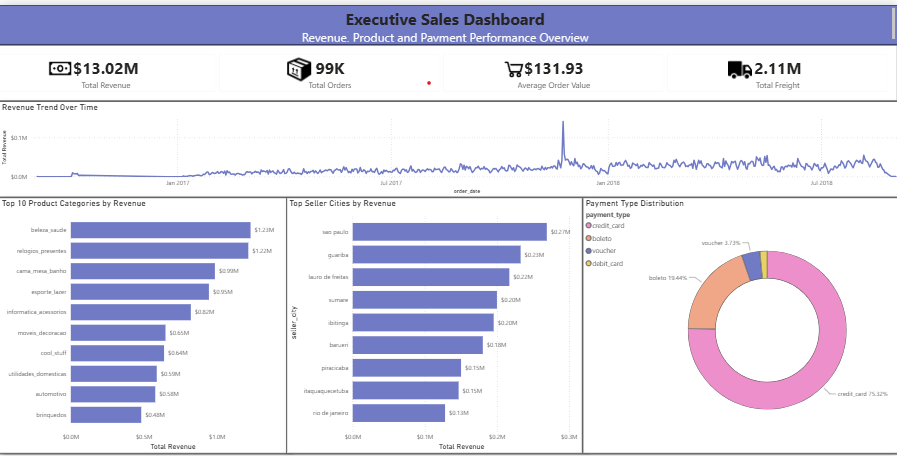

The dashboard page shown, as its layout file describes it:
{"tool":"powerbi","page":{"name":"Executive Sales Dashboard","canvas":[1800,900],"ordinal":0},"visuals":[{"type":"textbox","box":[-8,0,1808,80],"z":0},{"type":"cardVisual","fields":{"Data":["dim_customers.Total Revenue","dim_customers.Total Orders","dim_customers.Average Order Value","dim_customers.Total Freight"]},"box":[-24,80,1824,112],"z":1000},{"type":"image","box":[93,103,60,50],"z":2000},{"type":"image","box":[1005,95,50,65],"z":3000},{"type":"image","box":[570,105,60,48],"z":4000},{"type":"image","box":[1450,105,64,48],"z":5000},{"type":"lineChart","title":"Revenue Trend Over Time","fields":{"Y":["dim_customers.Total Revenue"],"Category":["dim_dates.order_date"]},"box":[0,192,1824,192],"z":6000},{"type":"clusteredBarChart","title":"Top 10 Product Categories by Revenue","fields":{"Category":["dim_products.product_category_name"],"Y":["dim_customers.Total Revenue"]},"box":[0,384,576,512],"z":7000},{"type":"clusteredBarChart","title":"Top Seller Cities by Revenue","fields":{"Category":["dim_sellers.seller_city"],"Y":["dim_customers.Total Revenue"]},"box":[576,384,592,512],"z":8000},{"type":"donutChart","title":"Payment Type Distribution","fields":{"Category":["fact_orders.payment_type"],"Y":["dim_customers.Total Orders"]},"box":[1168,384,632,512],"z":9000}]}

Visuals, with their boxes in screenshot pixels (x1, y1, x2, y2), scaled from the page's 1800x900 canvas onto the 897x456 screenshot:
textbox: bbox=(0, 0, 896, 41)
cardVisual - dim_customers.Total Revenue x dim_customers.Total Orders: bbox=(0, 41, 896, 97)
image: bbox=(46, 52, 76, 78)
image: bbox=(501, 48, 526, 81)
image: bbox=(284, 53, 314, 78)
image: bbox=(723, 53, 754, 78)
"Revenue Trend Over Time" lineChart: bbox=(0, 97, 896, 195)
"Top 10 Product Categories by Revenue" clusteredBarChart: bbox=(0, 195, 287, 454)
"Top Seller Cities by Revenue" clusteredBarChart: bbox=(287, 195, 582, 454)
"Payment Type Distribution" donutChart: bbox=(582, 195, 896, 454)
